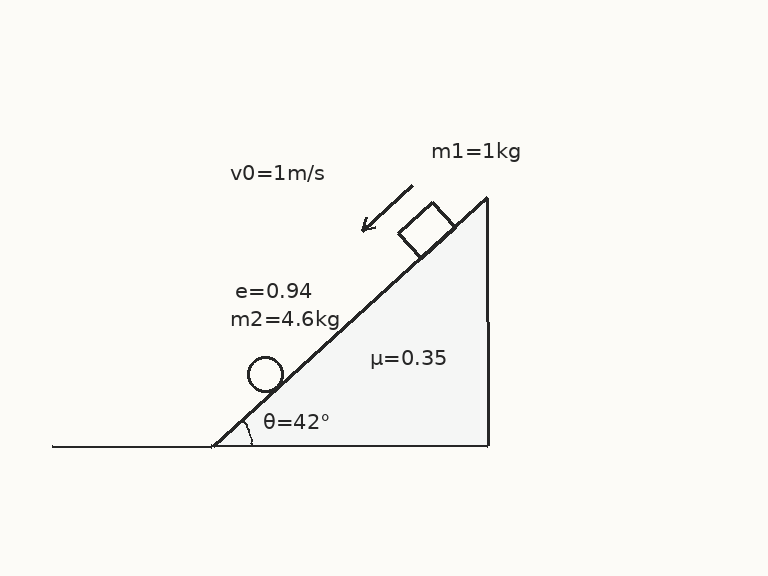ball: (245, 354, 285, 394)
block: (396, 200, 457, 260)
ramp: (210, 196, 490, 448)
